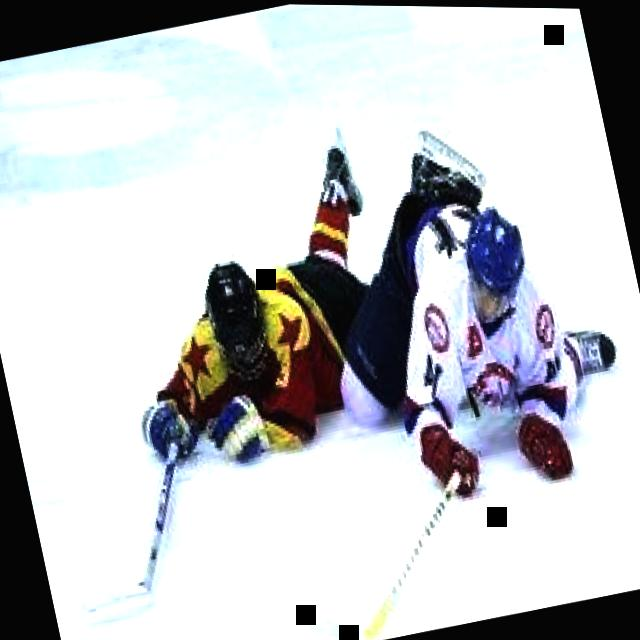Fall-Detected: (346, 130, 640, 524)
